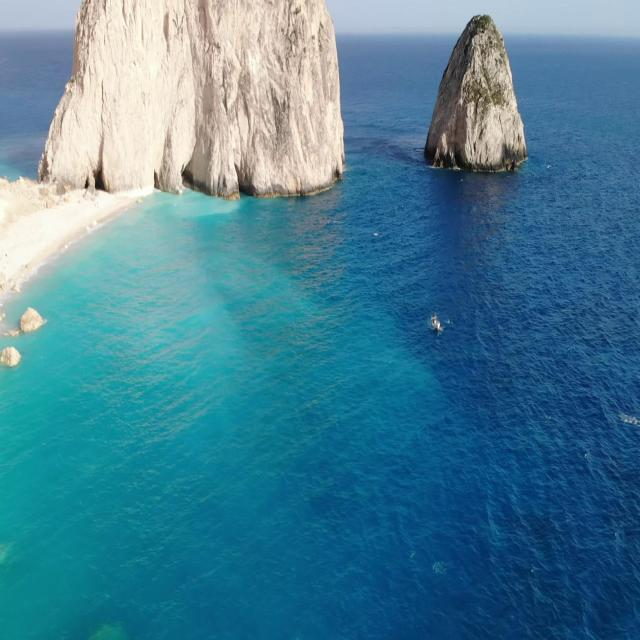boat: (428, 310, 442, 334)
